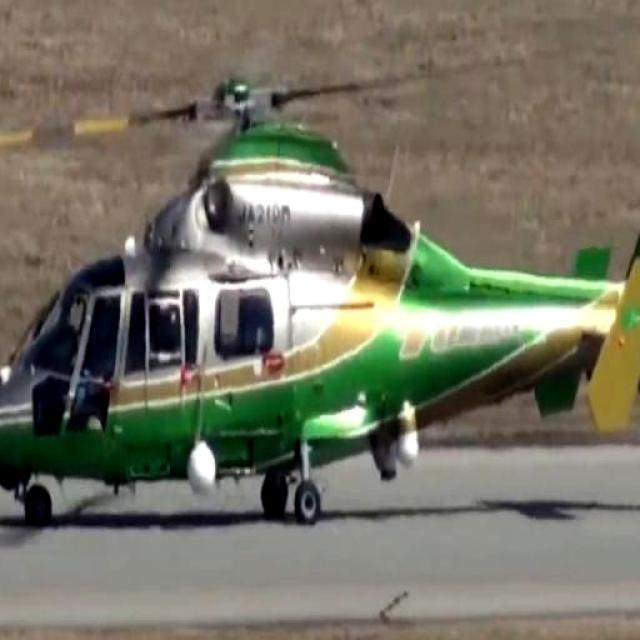drone: (0, 0, 640, 545)
